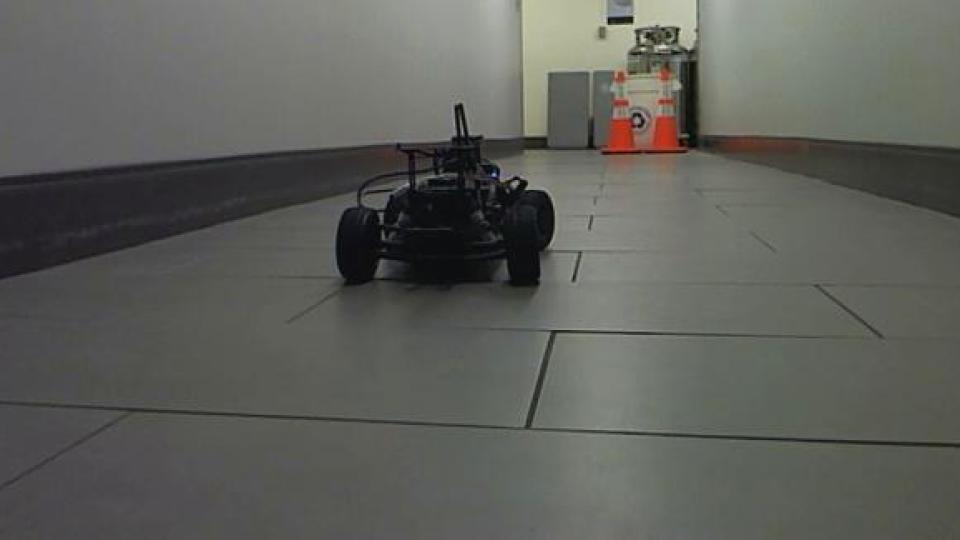car: (332, 100, 560, 290)
